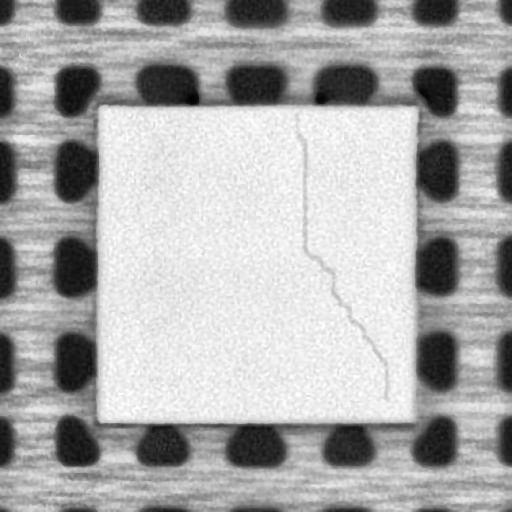DIE_CRACK: (290, 112, 391, 397)
